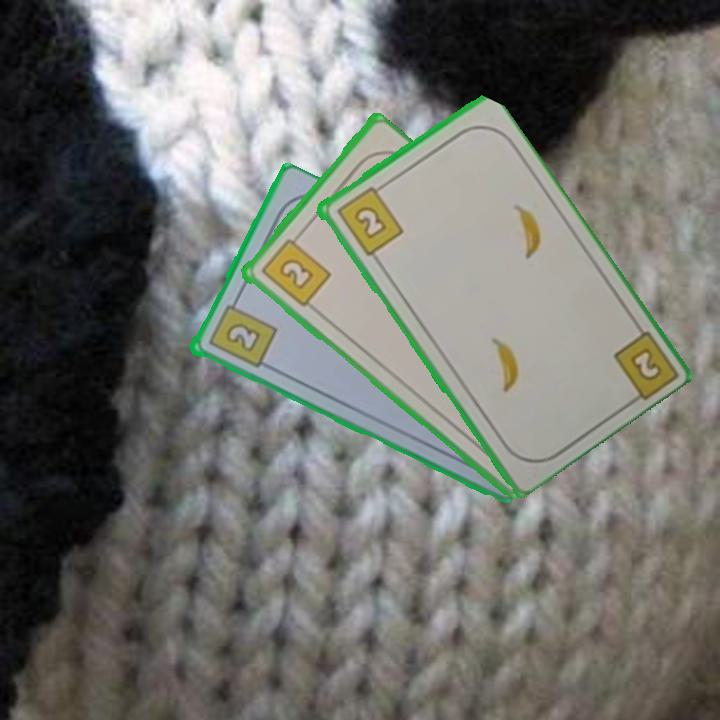2b: (257, 229, 333, 310), (332, 180, 406, 259), (204, 294, 279, 371), (626, 344, 665, 384)
